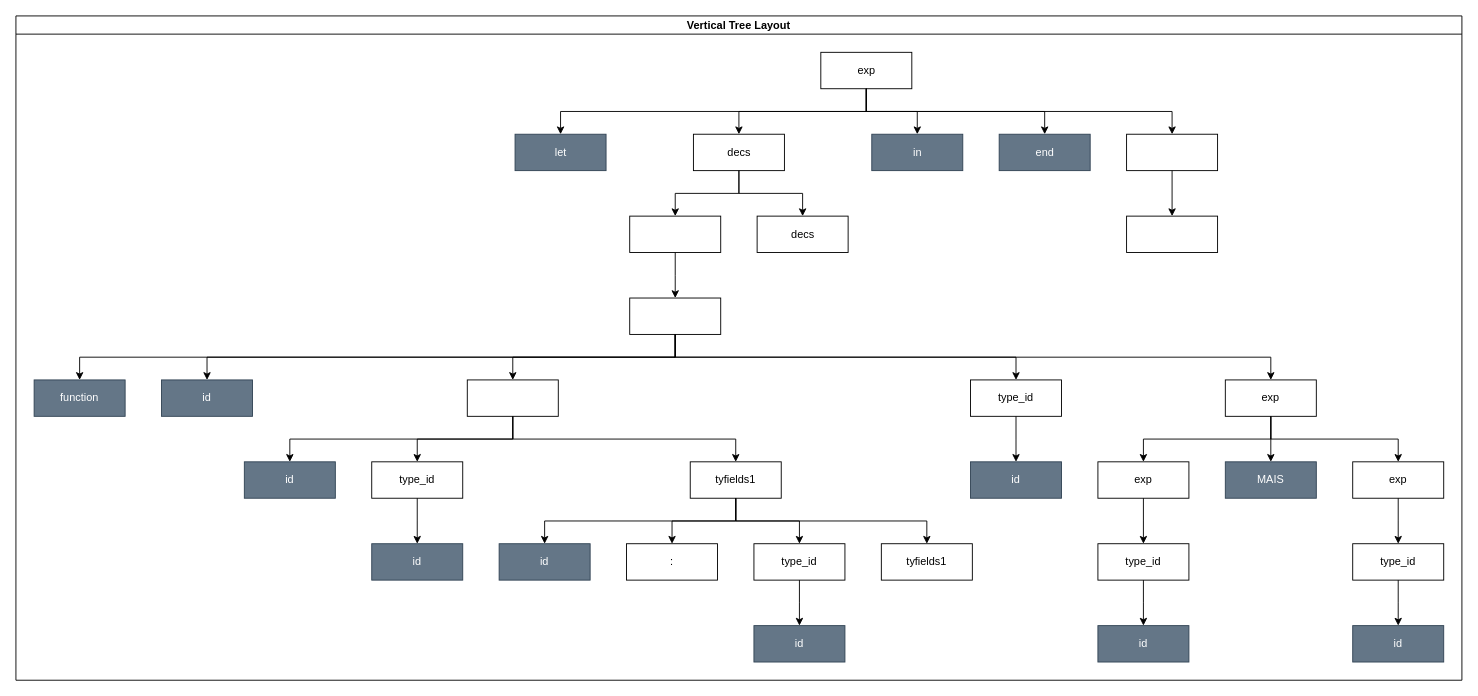
The diagram is 1478 pixels wide and 696 high, and some of its shapes have lost their labels. Each missing label, with the box of its shape:
dec: (629, 215, 721, 253)
expseq: (1126, 133, 1218, 171)
fundec: (629, 297, 721, 334)
tyfields: (466, 379, 558, 416)
